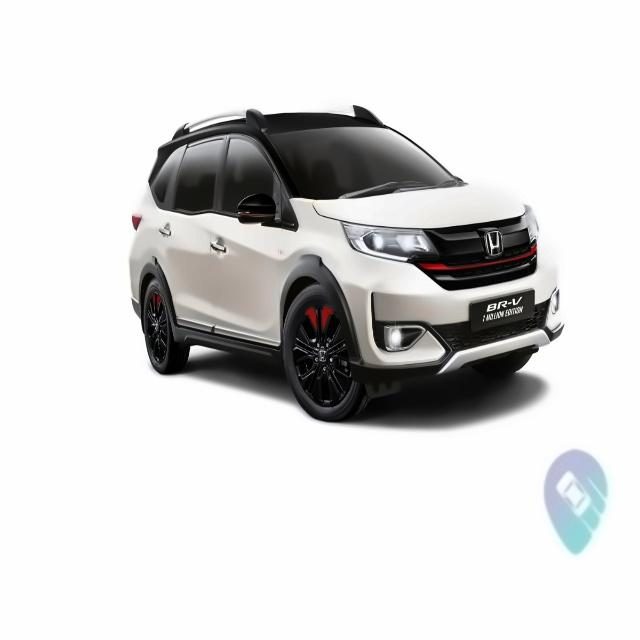Car hood: (310, 180, 528, 231)
Driver-s door - -F-R-: (210, 123, 279, 350)
Fender - -F-R-: (279, 193, 346, 343)
Fender - -R-R-: (133, 218, 158, 284)
Front bumper: (338, 264, 573, 385)
Headlight - -L-: (515, 200, 545, 250)
Headlight - -R-: (336, 217, 441, 264)
Passenger-s door - -R-R-: (153, 136, 210, 334)
Rear bumper: (122, 262, 145, 320)
Rear light - -R-: (121, 203, 145, 235)
Side bumper - -R-: (167, 313, 287, 362)
Side mirror - -R-: (229, 187, 280, 226)
